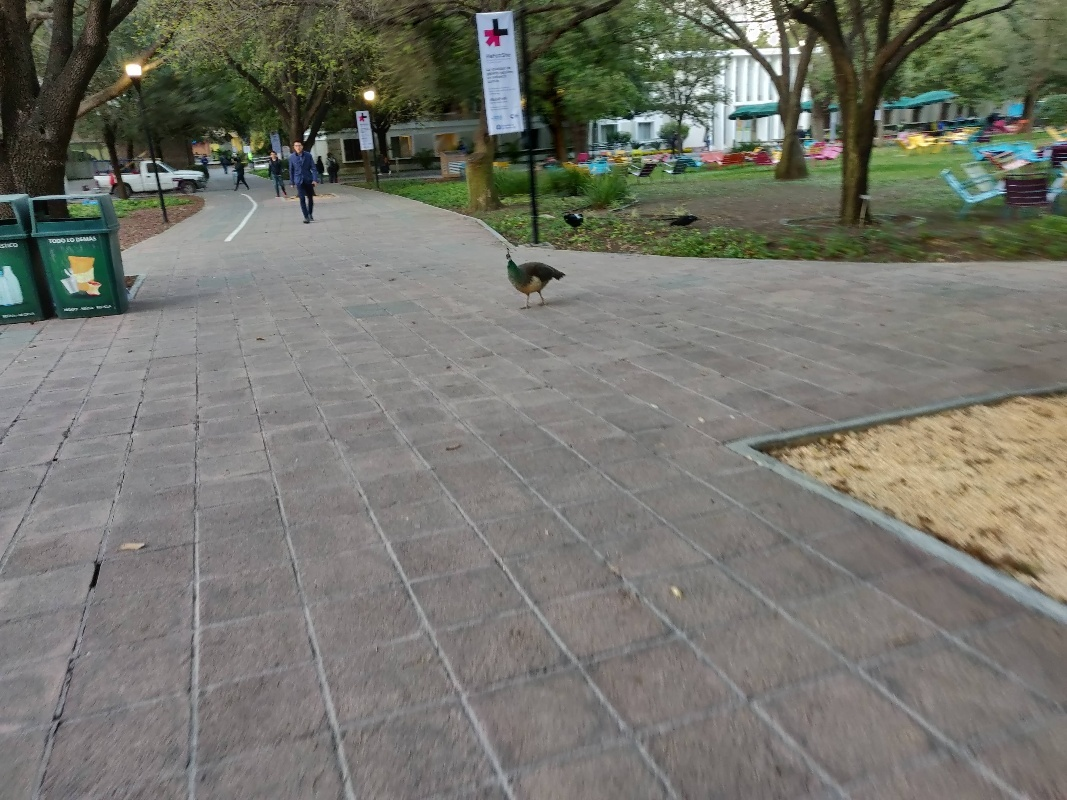pavoreal: (499, 245, 565, 313)
